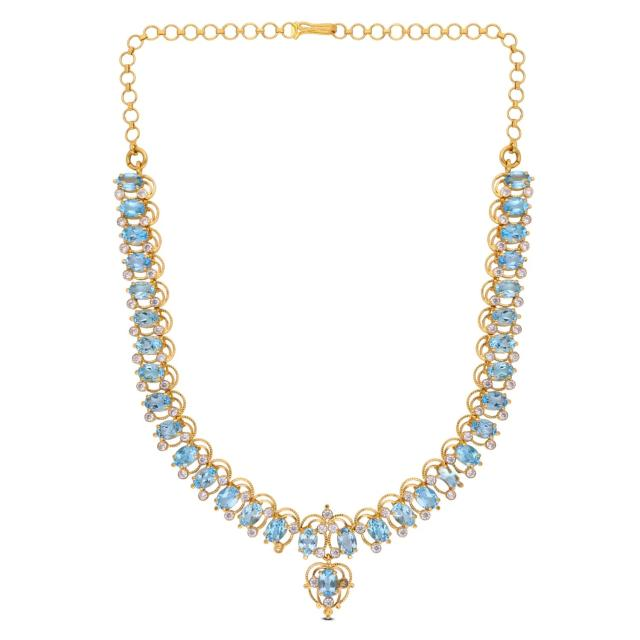missing gem: (439, 466, 460, 488), (340, 579, 348, 586), (275, 544, 283, 551)
